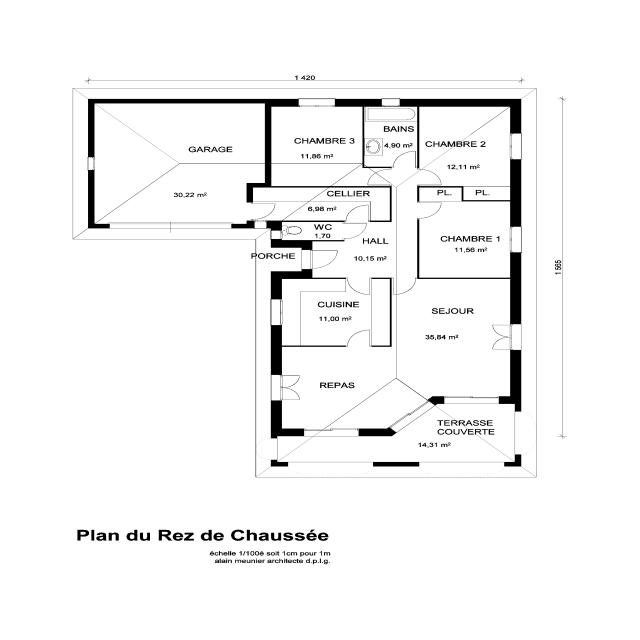door: (488, 322, 518, 352), (272, 373, 303, 402), (342, 202, 370, 230), (307, 248, 338, 269), (390, 277, 418, 296), (342, 220, 368, 240), (391, 150, 418, 169), (247, 201, 274, 220), (416, 201, 444, 219), (345, 278, 372, 296), (366, 168, 392, 186), (345, 328, 371, 346), (419, 169, 444, 187)
window: (488, 322, 518, 352), (511, 409, 525, 457), (106, 222, 172, 231), (508, 224, 524, 256), (507, 132, 524, 162), (170, 223, 233, 231), (508, 322, 524, 353), (269, 298, 285, 328), (295, 98, 338, 108), (378, 97, 403, 107), (86, 156, 98, 172)
zone: (279, 346, 510, 428), (94, 102, 268, 166), (94, 164, 256, 225), (390, 278, 512, 348), (418, 105, 511, 189), (270, 105, 364, 188), (417, 198, 513, 278), (280, 278, 378, 346), (336, 220, 419, 278), (364, 106, 418, 166), (280, 220, 330, 241), (418, 188, 462, 202)
